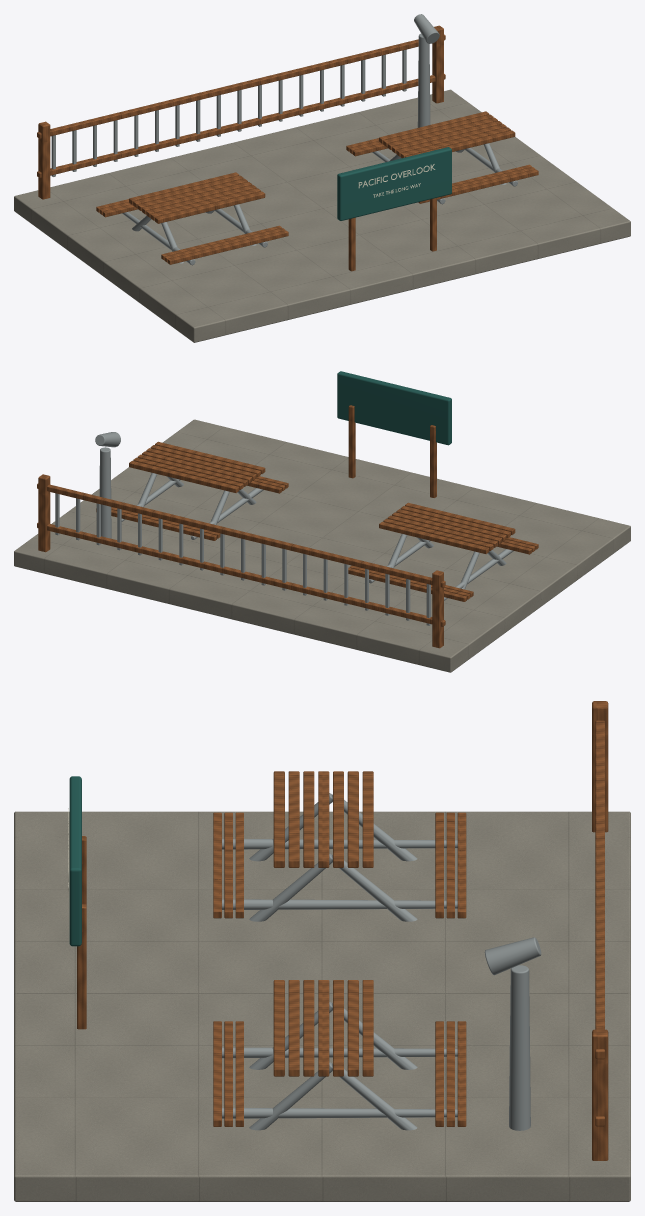
Rendered from pacific-overlook.glb.
3 renders of one model, top to bottom at view 1: azimuth 30°, elevation 25°; view 2: azimuth 150°, elevation 25°; view 3: azimuth 270°, elevation 25°, orthographic. The views are drawn at different scales.
Visible parts, largest first — view 1: Overlook limestone, Overlook weathered timber, Overlook galvanized metal, Park signage green; view 2: Overlook limestone, Overlook weathered timber, Overlook galvanized metal, Park signage green; view 3: Overlook limestone, Overlook weathered timber, Overlook galvanized metal, Park signage green.
Boxes of the visible parts, x1=… form: Overlook limestone: x1=14, y1=89, x2=630, y2=342; Overlook weathered timber: x1=37, y1=25, x2=538, y2=271; Overlook galvanized metal: x1=51, y1=14, x2=517, y2=265; Park signage green: x1=337, y1=147, x2=451, y2=220; Overlook limestone: x1=14, y1=419, x2=630, y2=672; Overlook weathered timber: x1=37, y1=405, x2=538, y2=648; Overlook galvanized metal: x1=55, y1=432, x2=513, y2=625; Park signage green: x1=337, y1=371, x2=451, y2=445; Overlook limestone: x1=14, y1=811, x2=630, y2=1201; Overlook weathered timber: x1=77, y1=701, x2=608, y2=1160; Overlook galvanized metal: x1=222, y1=793, x2=541, y2=1130; Park signage green: x1=69, y1=776, x2=81, y2=946.
Bounding box in the file's own units: 7 × 1.92 × 5.
Materials: 5 (2 with a texture image).
